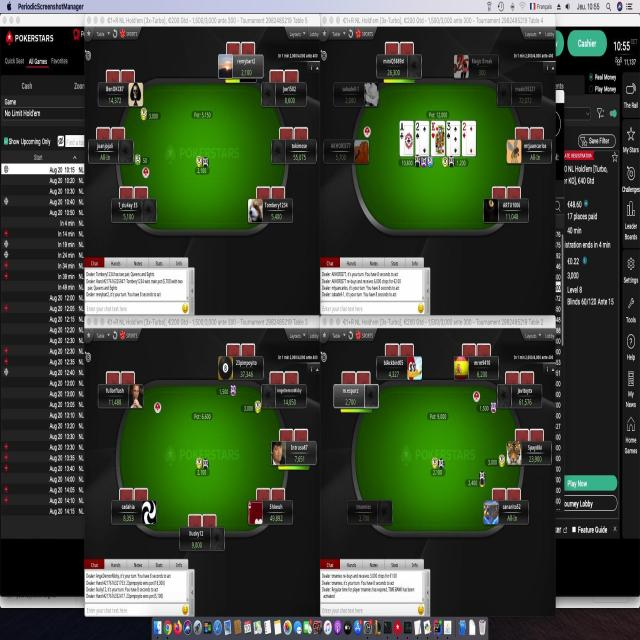2D: (462, 120, 467, 141)
2S: (414, 121, 421, 143)
3S: (446, 120, 452, 140)
AC: (399, 120, 405, 142)
KH: (431, 120, 436, 142)
